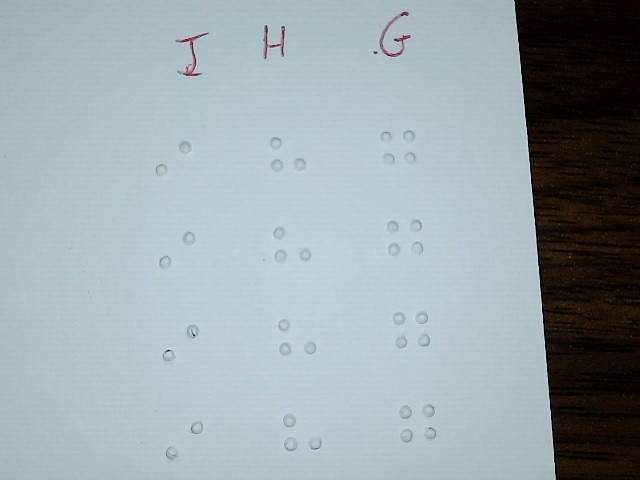G: (378, 118, 420, 192), (384, 209, 426, 283), (391, 301, 433, 375), (396, 394, 438, 468)
H: (267, 124, 309, 198), (271, 216, 313, 290), (277, 309, 319, 383), (281, 403, 323, 477)
I: (153, 126, 195, 200), (157, 219, 199, 293)
